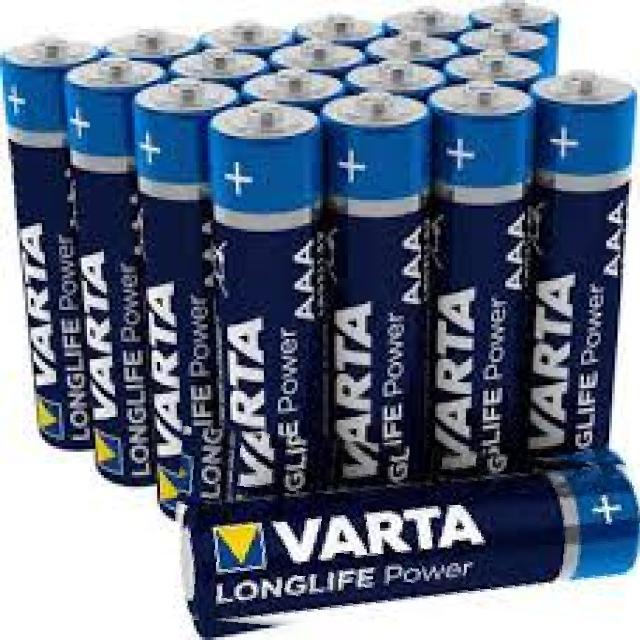Battery: (165, 467, 639, 625), (60, 57, 173, 491), (133, 79, 244, 520), (209, 102, 330, 501), (523, 67, 639, 469), (327, 87, 435, 496), (0, 31, 102, 459), (428, 81, 534, 480), (465, 0, 562, 77), (449, 48, 542, 84), (342, 62, 446, 94), (270, 38, 367, 72), (364, 30, 458, 64), (295, 10, 386, 45), (368, 31, 464, 64), (169, 48, 265, 79), (104, 29, 202, 58), (378, 6, 468, 37), (201, 21, 292, 50)
